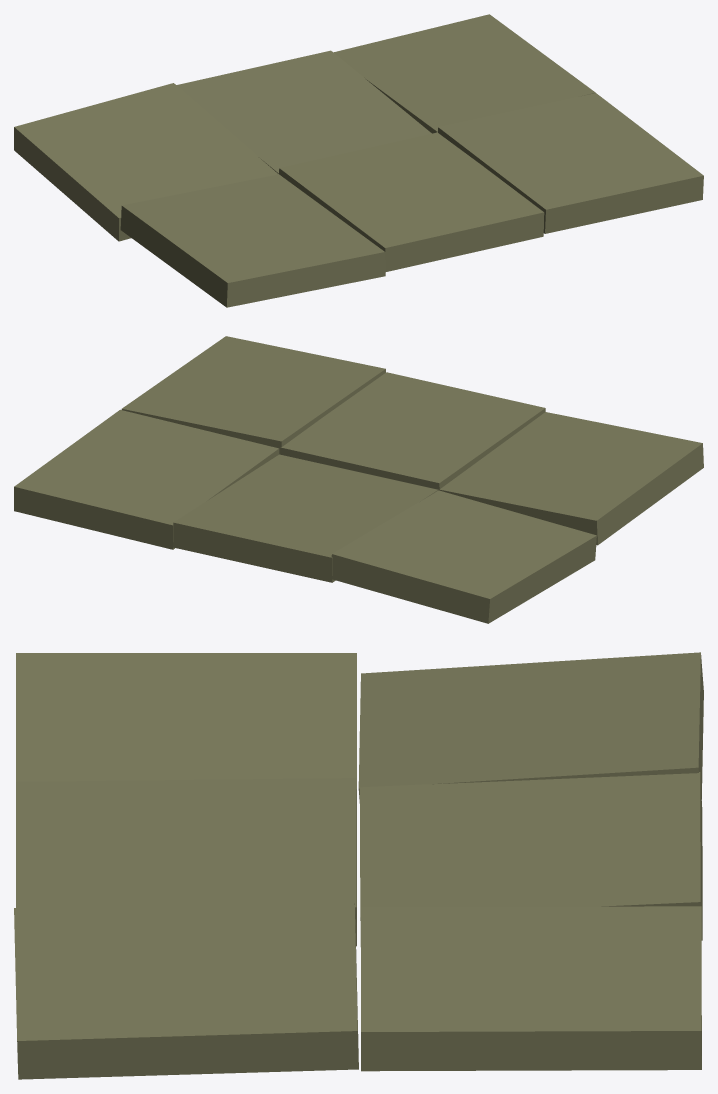
The model's file is ground_tiles 1.fbx.
3 renders of one model, top to bottom at view 1: azimuth 30°, elevation 25°; view 2: azimuth 150°, elevation 25°; view 3: azimuth 270°, elevation 25°, orthographic. The views are drawn at different scales.
Parts seen in each view (by area): view 1: ground_simple2, ground_simple6, ground_simple4, ground_simple1, ground_simple3, ground_simple5; view 2: ground_simple1, ground_simple5, ground_simple2, ground_simple3, ground_simple4, ground_simple6; view 3: ground_simple6, ground_simple5, ground_simple3, ground_simple2, ground_simple4, ground_simple1.
Part boxes in pixels (bbox=[...]): ground_simple2: bbox=[120, 174, 386, 307]; ground_simple6: bbox=[438, 93, 703, 233]; ground_simple4: bbox=[279, 132, 544, 271]; ground_simple1: bbox=[14, 83, 278, 241]; ground_simple3: bbox=[176, 50, 431, 173]; ground_simple5: bbox=[333, 14, 595, 133]; ground_simple1: bbox=[331, 490, 596, 623]; ground_simple5: bbox=[14, 409, 279, 549]; ground_simple2: bbox=[438, 412, 703, 545]; ground_simple3: bbox=[173, 454, 438, 582]; ground_simple4: bbox=[280, 372, 545, 489]; ground_simple6: bbox=[121, 336, 385, 454]; ground_simple6: bbox=[14, 898, 358, 1079]; ground_simple5: bbox=[360, 906, 701, 1071]; ground_simple3: bbox=[360, 772, 702, 940]; ground_simple2: bbox=[16, 653, 356, 793]; ground_simple4: bbox=[16, 778, 356, 946]; ground_simple1: bbox=[358, 652, 703, 803].
Bounding box in the file's own units: 10.22 × 0.8925 × 7.96.
